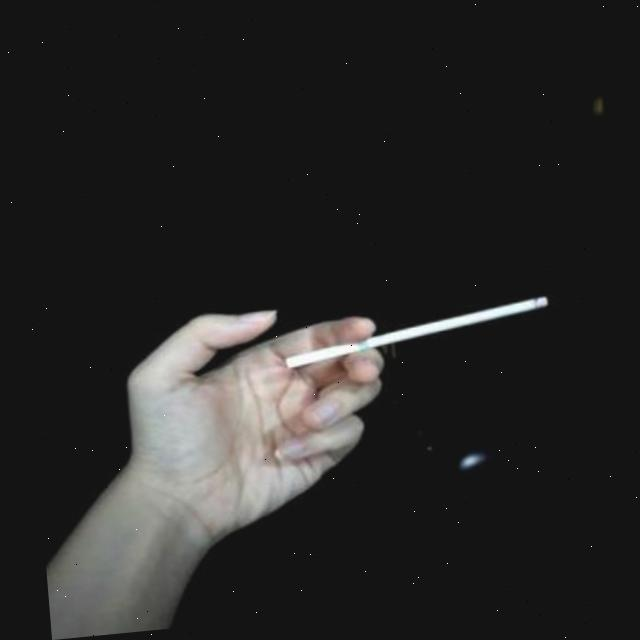cigarette: (274, 306, 548, 379)
